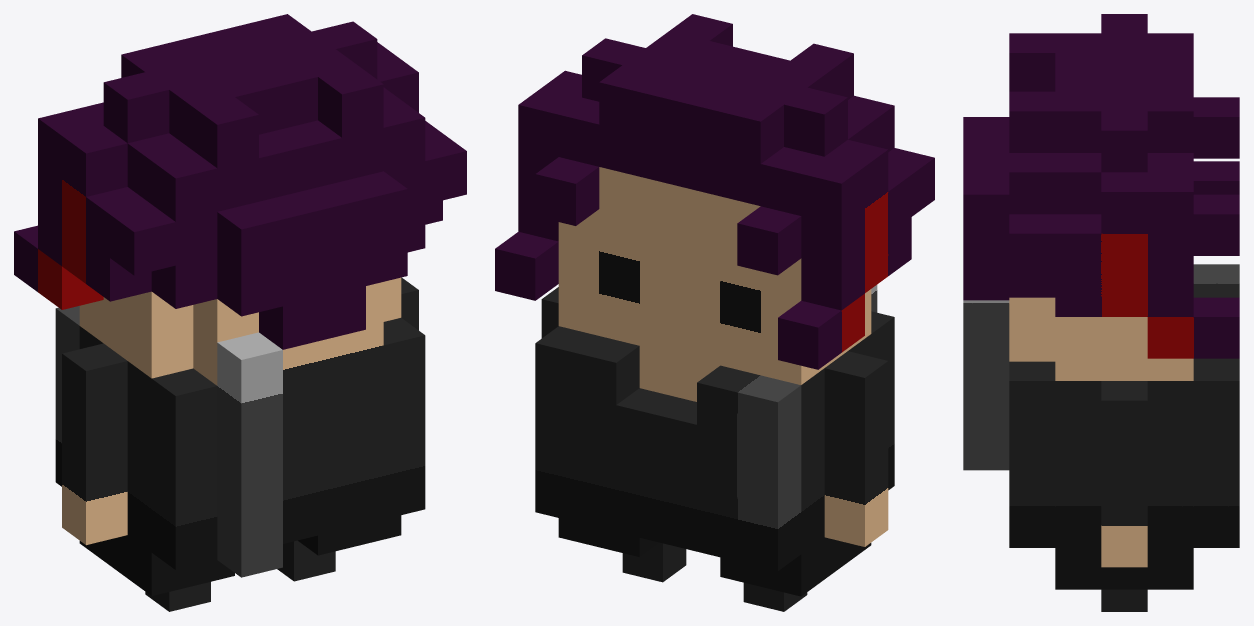
The model's file is chr_brookie.dae.
3 renders of one model, left to right at view 1: azimuth 30°, elevation 25°; view 2: azimuth 150°, elevation 25°; view 3: azimuth 270°, elevation 25°, orthographic. The views are drawn at different scales.
Parts seen in each view (by area): view 1: chr_brookie; view 2: chr_brookie; view 3: chr_brookie.
Part boxes in pixels (bbox=[...]): chr_brookie: bbox=[14, 14, 466, 611]; chr_brookie: bbox=[495, 14, 934, 611]; chr_brookie: bbox=[963, 14, 1239, 611].
Size of the model in its own units: 0.8 by 0.6 by 1.2.
1 material, 1 textured.
